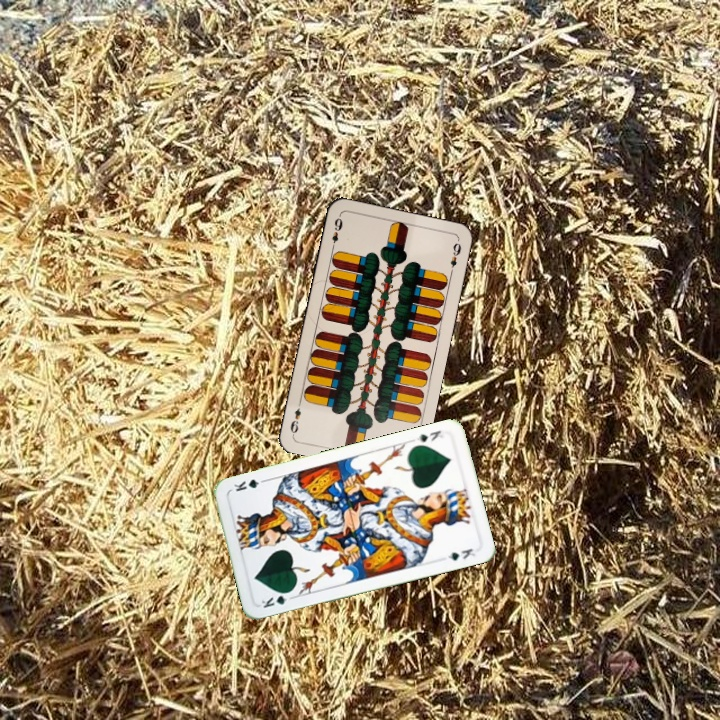E9: (327, 212, 345, 252)
GK: (257, 587, 297, 611), (409, 426, 446, 445)
